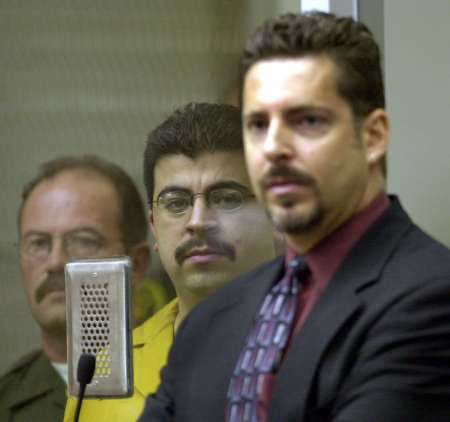Face: (238, 60, 369, 244), (156, 140, 270, 297), (23, 177, 128, 333)
